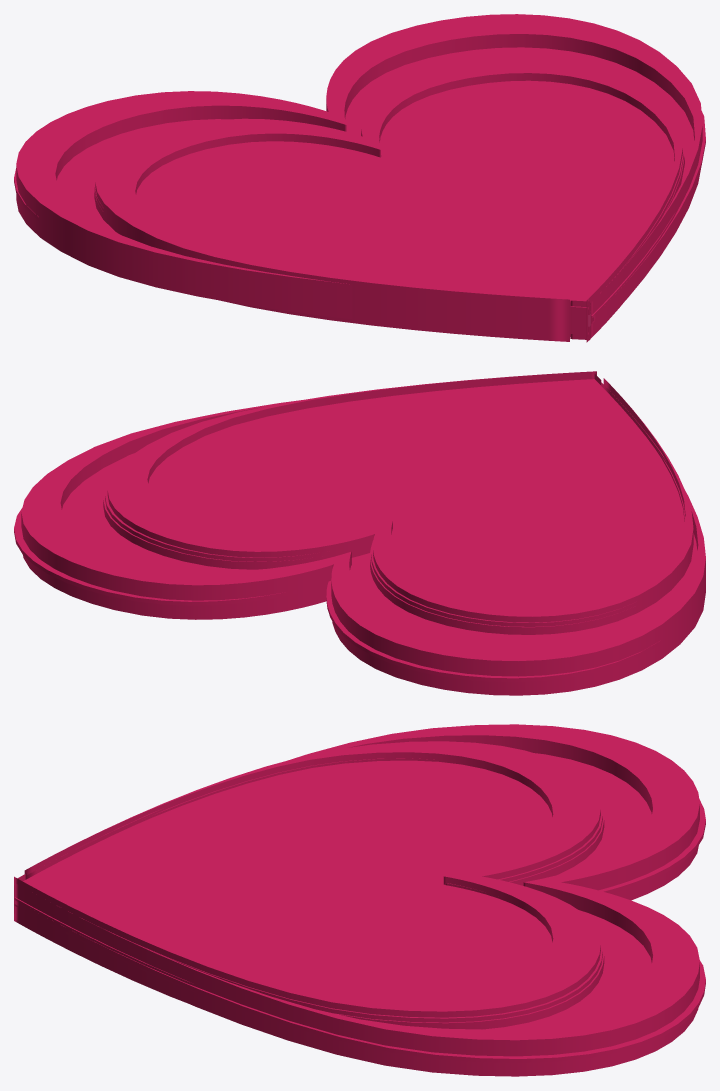
The model's file is emoji_u1f497.glb.
3 views of the same model, one above another, from view 1: azimuth 30°, elevation 25°; view 2: azimuth 150°, elevation 25°; view 3: azimuth 270°, elevation 25° (orthographic). The views are drawn at different scales.
Parts seen in each view (by area): view 1: emoji_u1f497; view 2: emoji_u1f497; view 3: emoji_u1f497.
Part boxes in pixels (<box>): emoji_u1f497: <box>14,14,705,342</box>; emoji_u1f497: <box>14,371,705,695</box>; emoji_u1f497: <box>14,724,705,1076</box>.
Size of the model in its own units: 0.0339 by 0.0022 by 0.0311.
